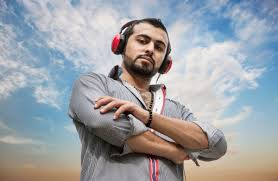middle_eastern_male: (123, 25, 171, 78)
